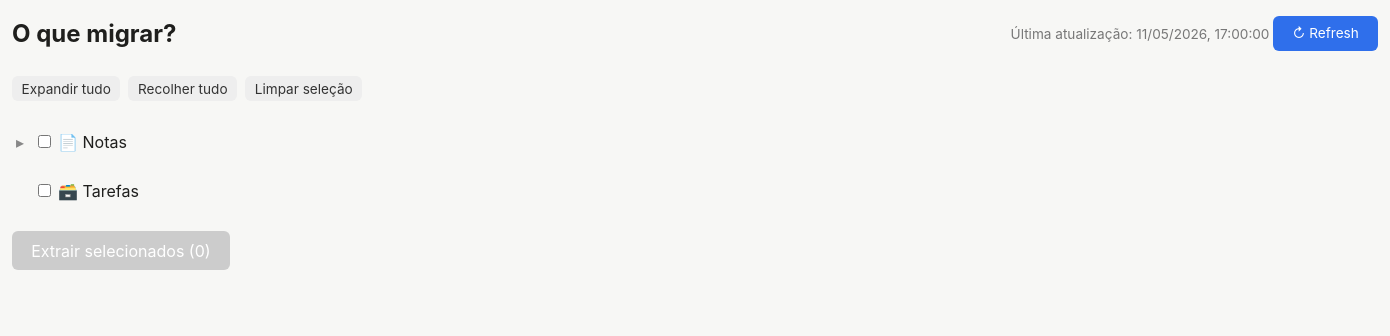
TreeView (recursive) › expanding shows children
Check: the text "📄 Notas" is shown, box 34,132 -> 127,152
Click the button "▸" at {"x": 20, "y": 142}, box 16,132 -> 24,152
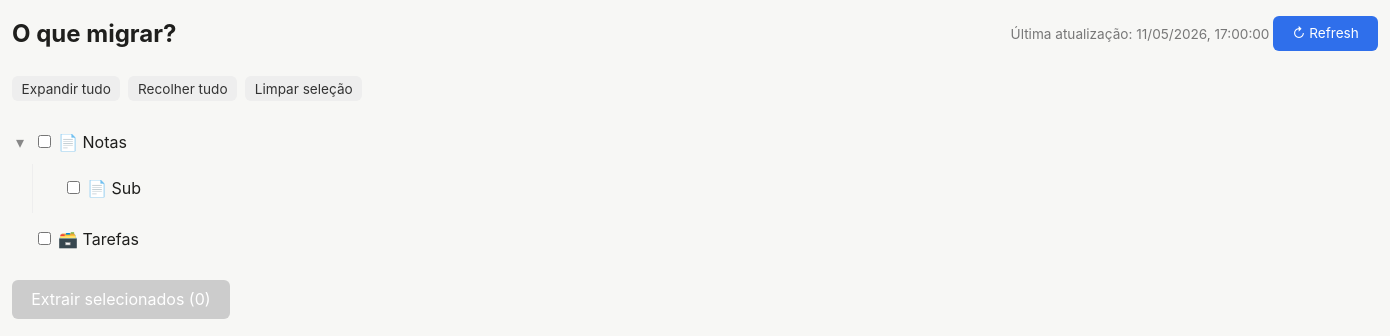
Check: the text "📄 Sub" is shown, box 63,178 -> 141,198
